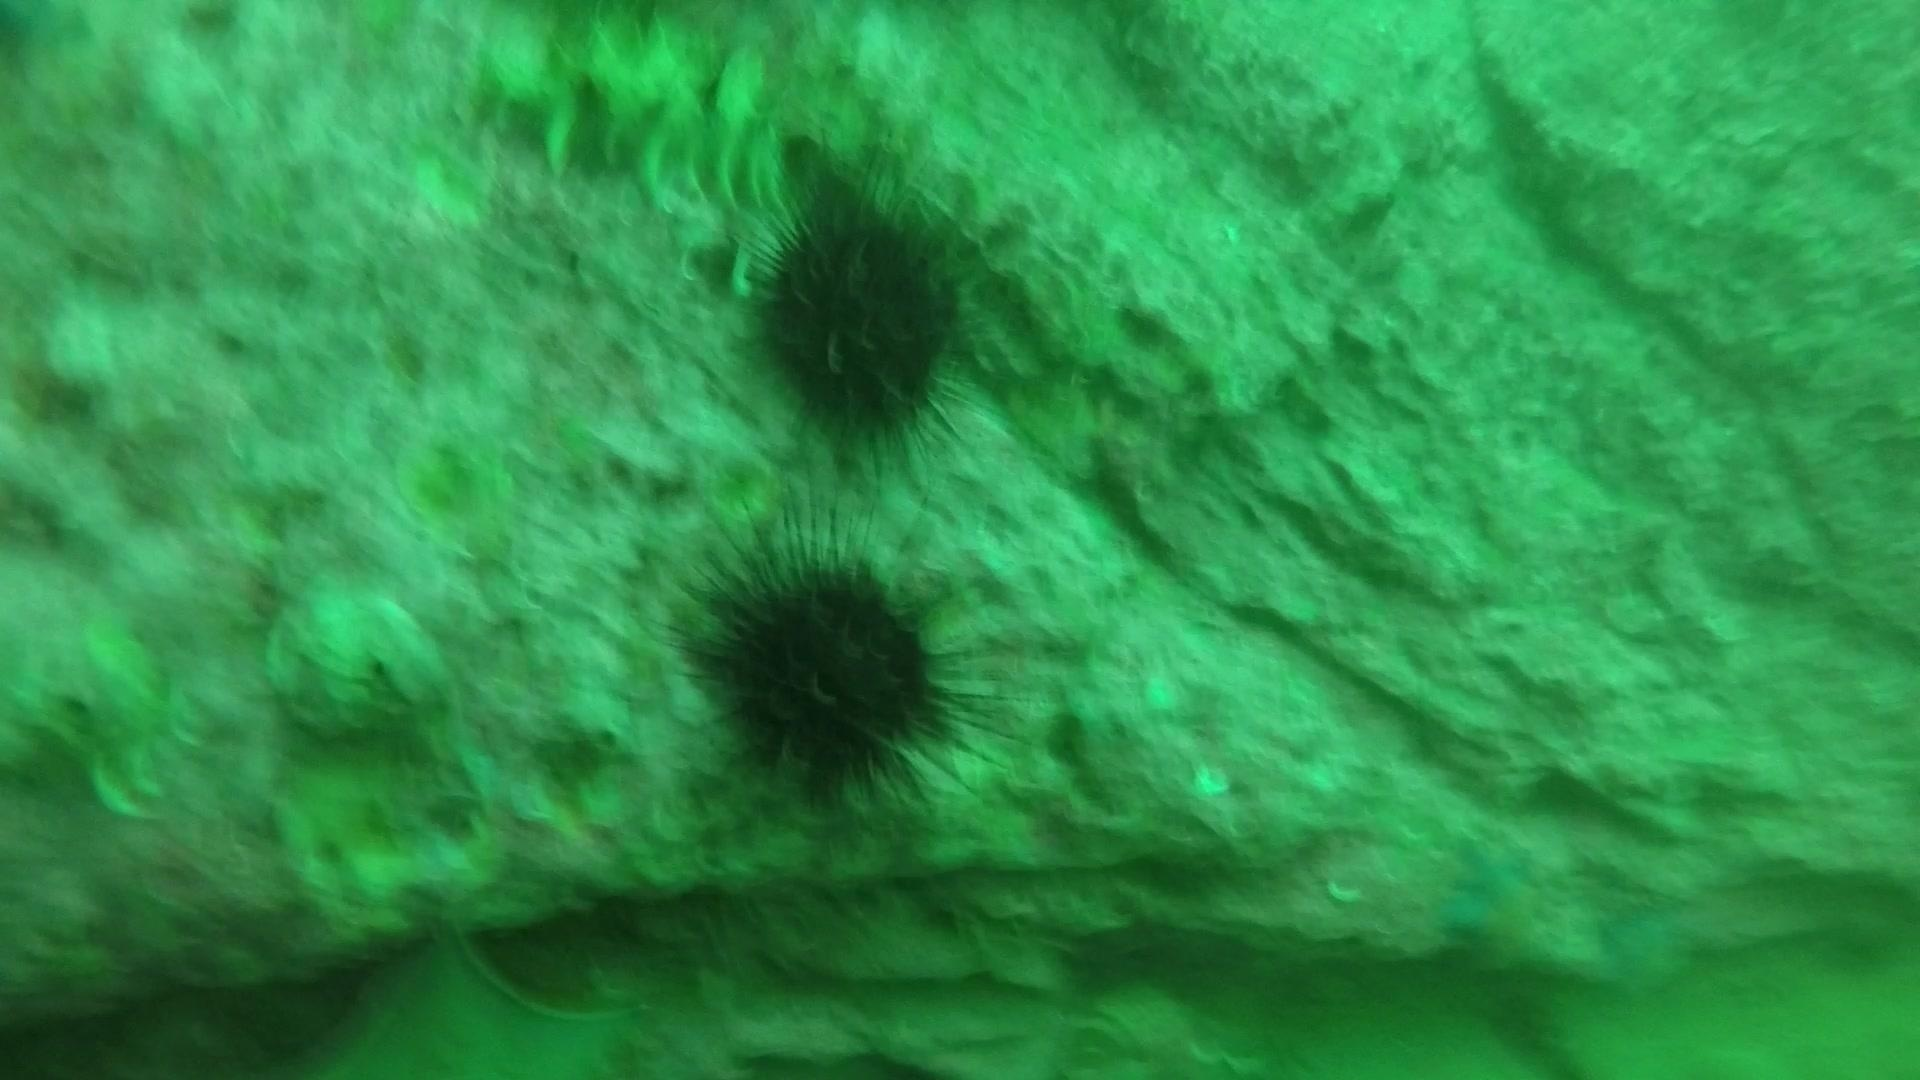echinus: (665, 501, 996, 815), (731, 171, 982, 463)
holothurian: (460, 12, 898, 211)
starfish: (309, 924, 647, 1077), (1432, 839, 1571, 978)
